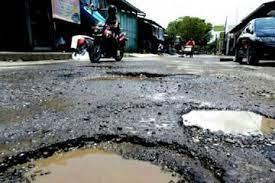Pothole: (0, 132, 229, 183), (172, 99, 275, 144), (54, 63, 196, 90)
